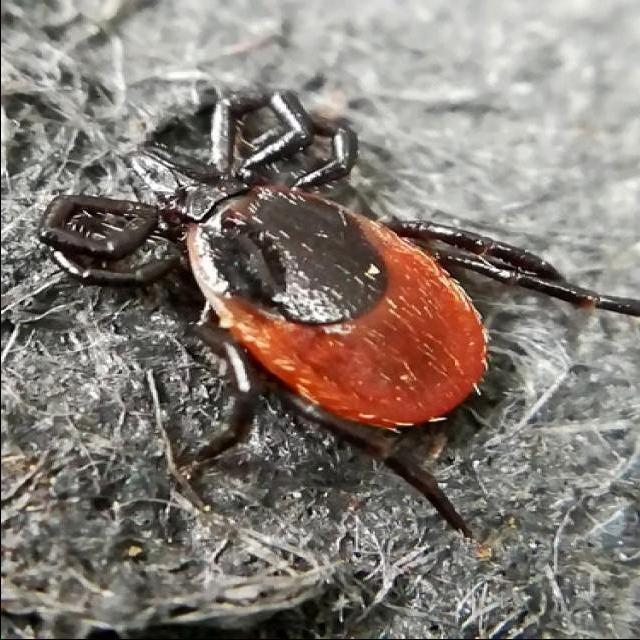Ixodes Ricinus-F: (39, 86, 640, 541)
